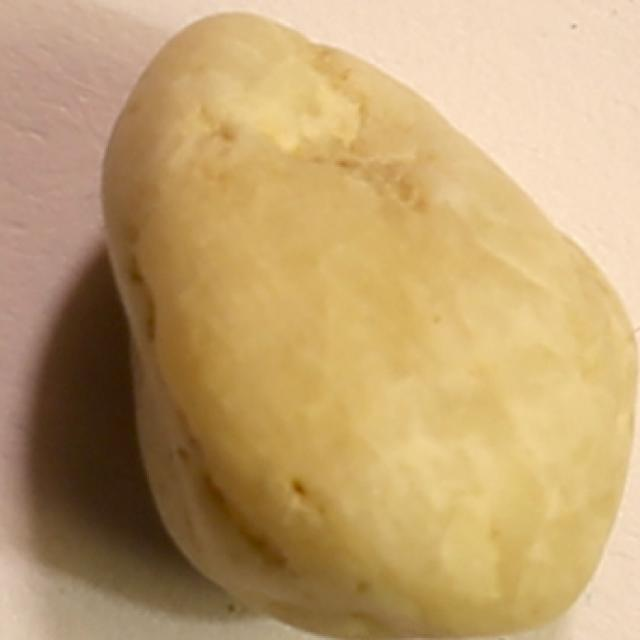stone: (100, 2, 640, 640)
